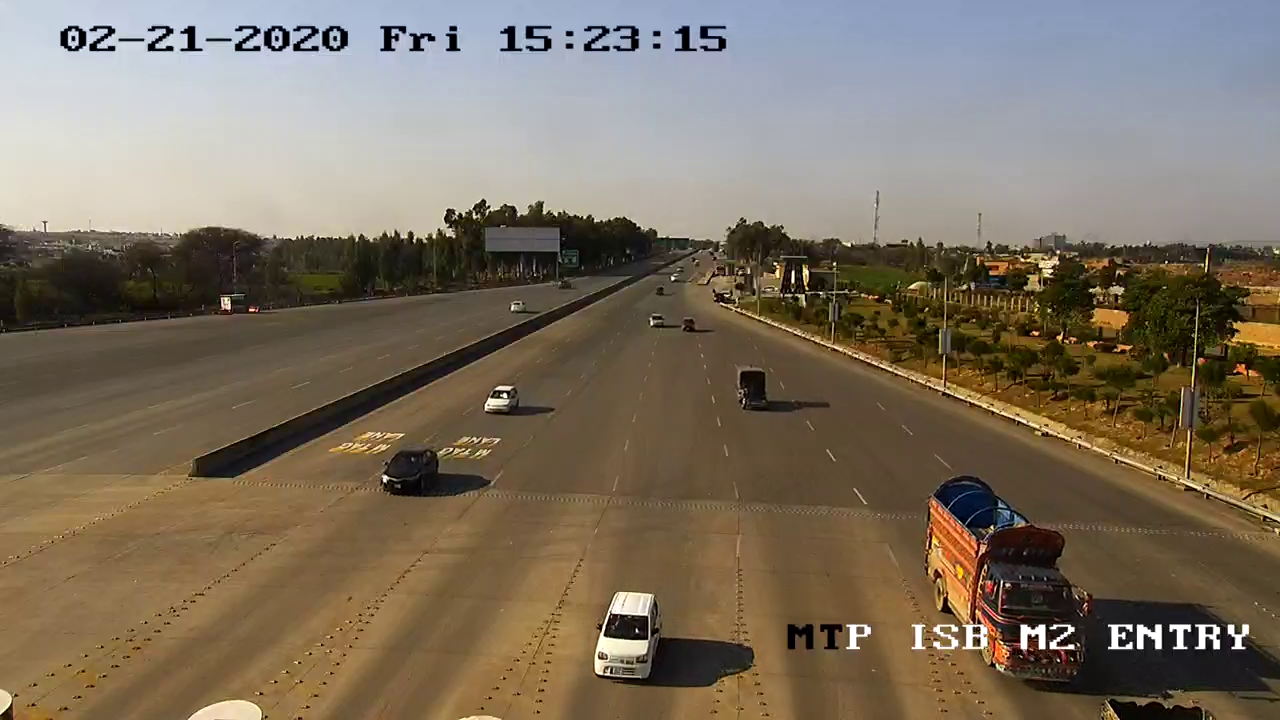f1: (584, 585, 673, 688), (374, 443, 448, 504)
f5: (921, 471, 1089, 685)
